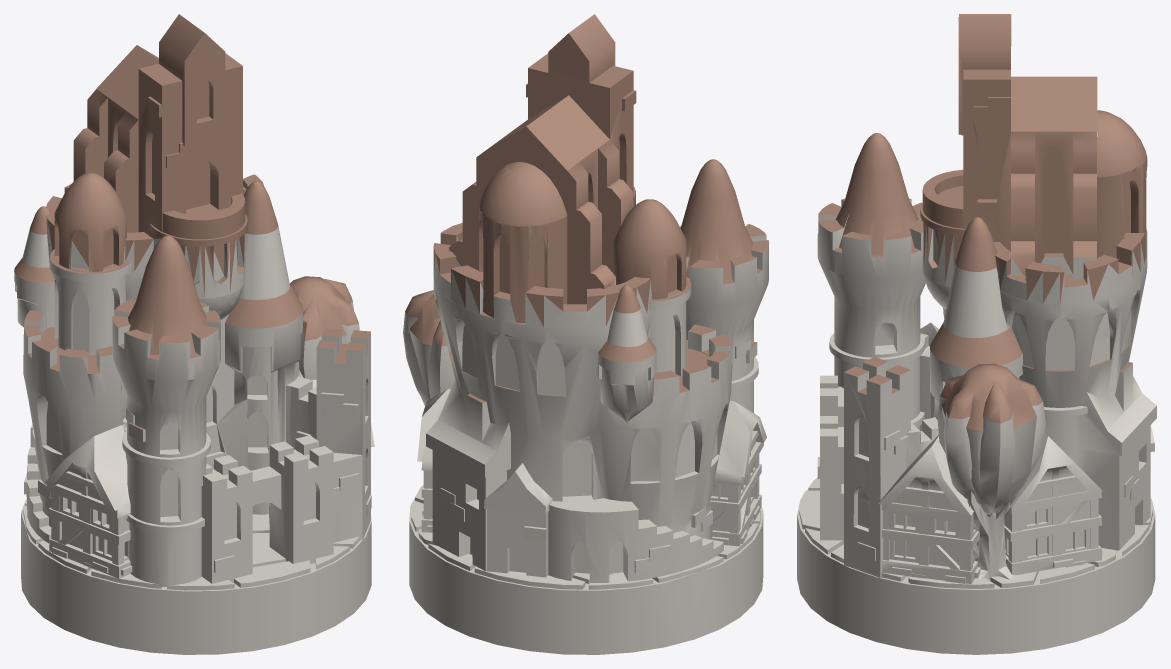
The model's file is ciudad.glb.
3 views of the same model, side by side, from view 1: azimuth 30°, elevation 25°; view 2: azimuth 150°, elevation 25°; view 3: azimuth 270°, elevation 25° (orthographic).
Visible parts, largest first — view 1: Walls, Roof; view 2: Walls, Roof; view 3: Walls, Roof.
Boxes of the visible parts, x1,y1,x2,y2 form: Walls: [14, 185, 374, 654]; Roof: [14, 14, 370, 429]; Walls: [403, 235, 768, 654]; Roof: [405, 14, 768, 427]; Walls: [797, 199, 1156, 654]; Roof: [817, 14, 1147, 430].
Bounding box in the file's own units: 15.95 × 26.1 × 15.06.
